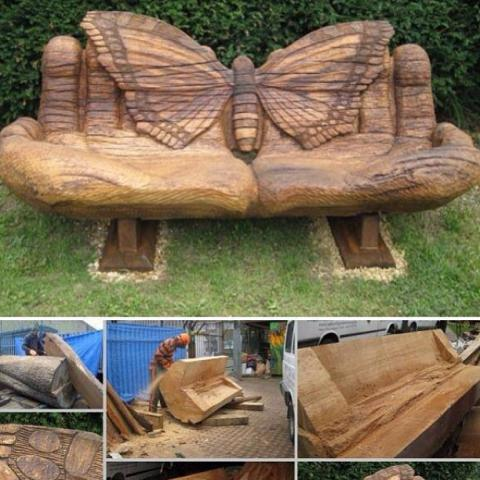car: (296, 320, 406, 348)
